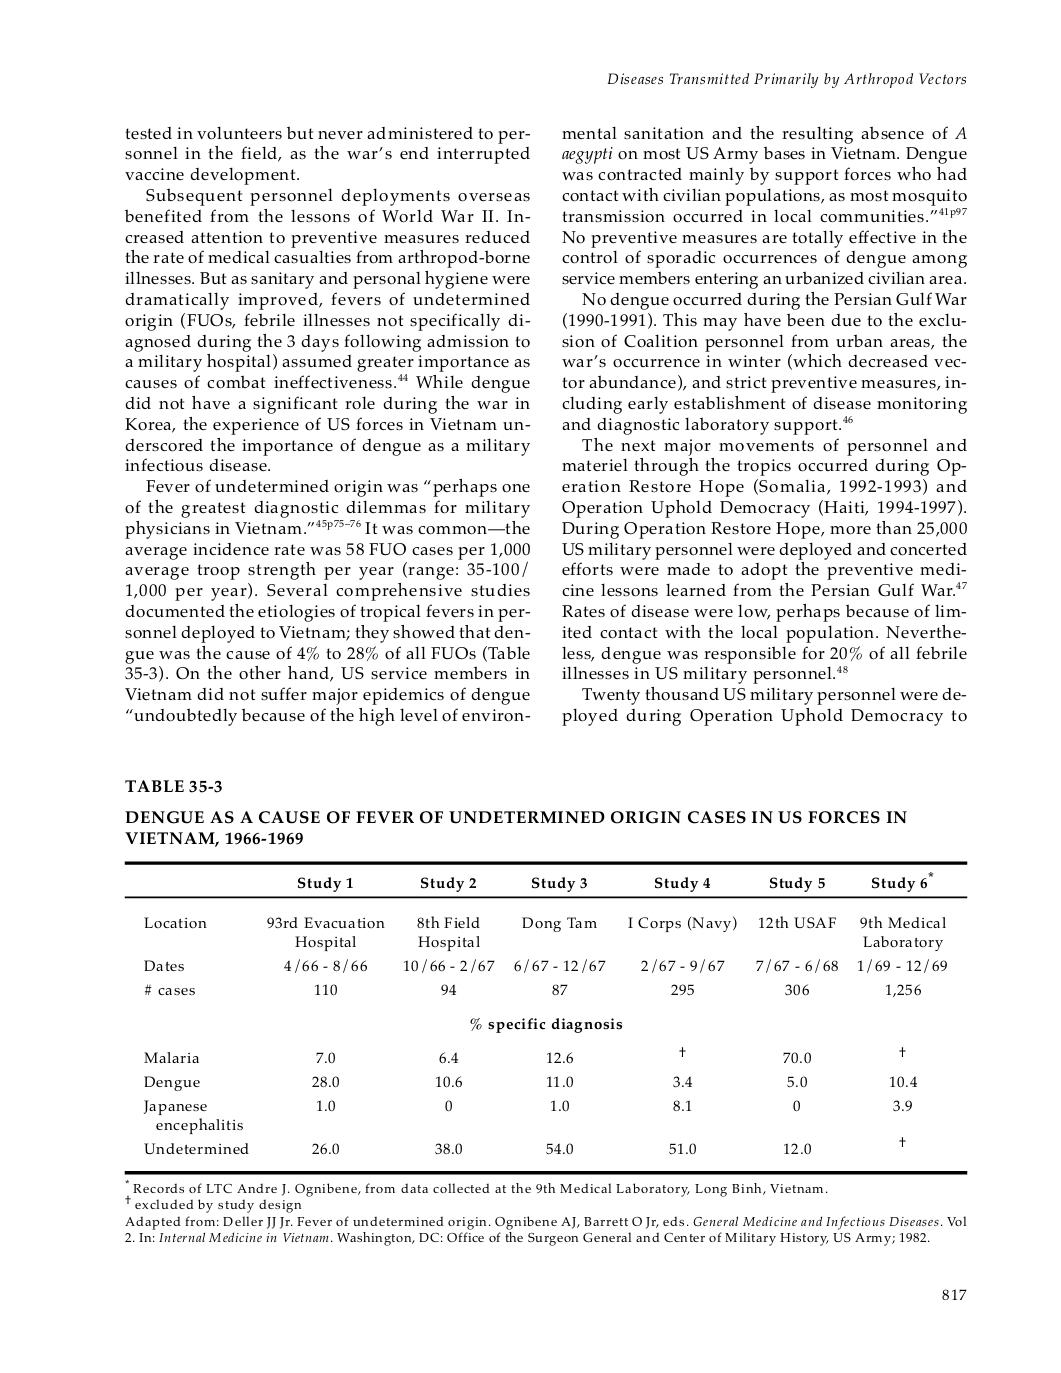Table: (124, 861, 967, 1174)
